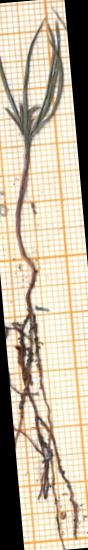flower: (0, 4, 74, 146)
root: (3, 305, 84, 550)
stem: (6, 145, 48, 308)
